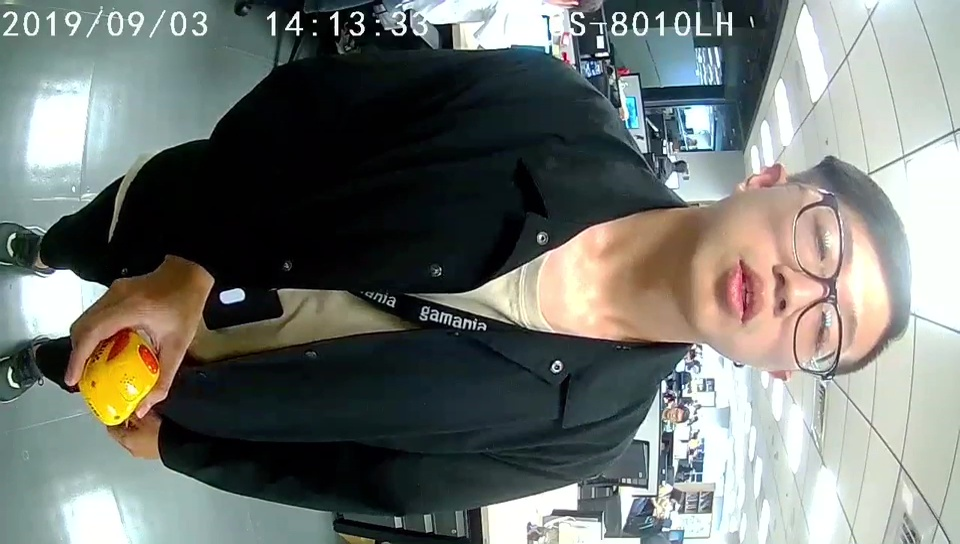car: (78, 327, 163, 427)
